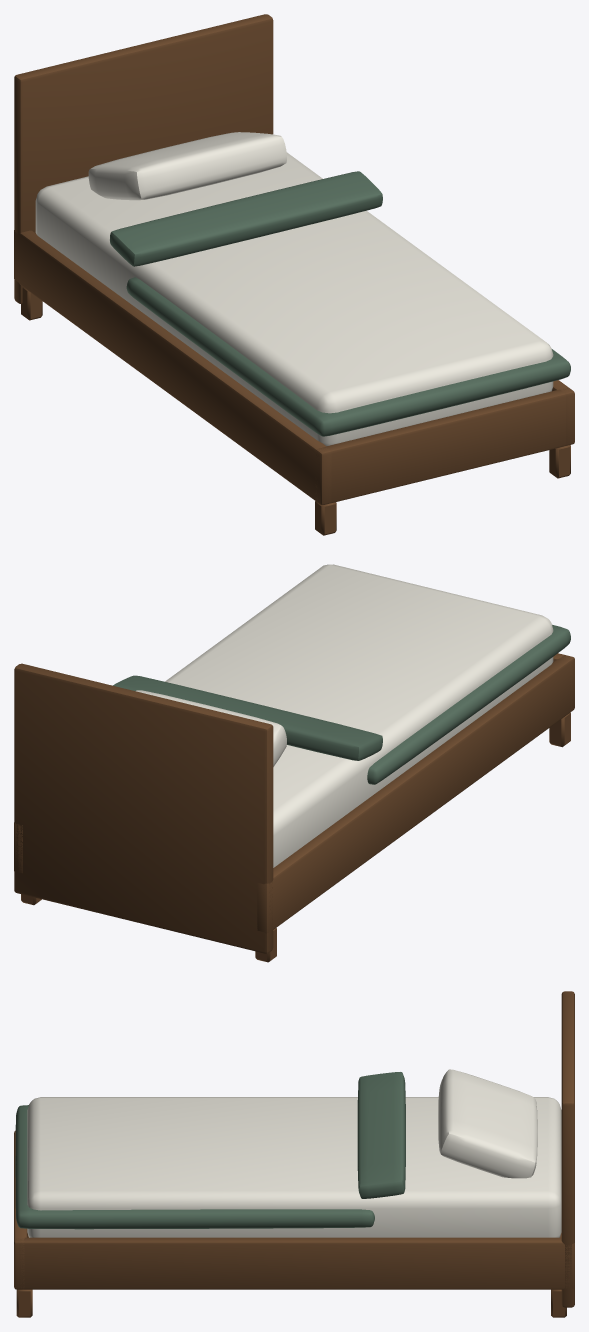
File: bed_single.glb
3 views of the same model, one above another, from view 1: azimuth 30°, elevation 25°; view 2: azimuth 150°, elevation 25°; view 3: azimuth 270°, elevation 25° (orthographic). The views are drawn at different scales.
Parts seen in each view (by area): view 1: main__bed_single__linen_sheet, main__bed_single__wood_oak, main__bed_single__fabric_duvet; view 2: main__bed_single__wood_oak, main__bed_single__linen_sheet, main__bed_single__fabric_duvet; view 3: main__bed_single__linen_sheet, main__bed_single__wood_oak, main__bed_single__fabric_duvet.
Part boxes in pixels (<box>): main__bed_single__linen_sheet: <box>35,132,553,446</box>; main__bed_single__wood_oak: <box>14,14,574,535</box>; main__bed_single__fabric_duvet: <box>110,171,570,436</box>; main__bed_single__wood_oak: <box>14,653,574,962</box>; main__bed_single__linen_sheet: <box>136,564,553,867</box>; main__bed_single__fabric_duvet: <box>113,624,570,784</box>; main__bed_single__linen_sheet: <box>27,1069,561,1237</box>; main__bed_single__wood_oak: <box>14,991,574,1317</box>; main__bed_single__fabric_duvet: <box>15,1072,405,1229</box>.
Size of the model in its own units: 1 by 0.895 by 2.1.
